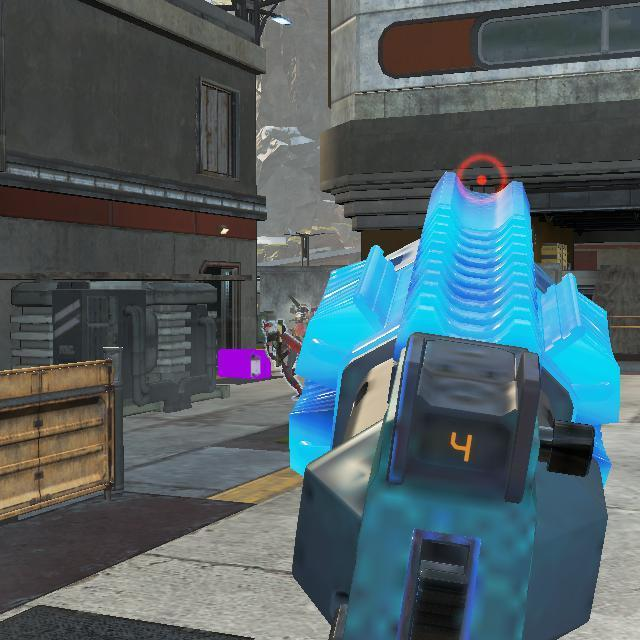avatar: (260, 315, 304, 404)
